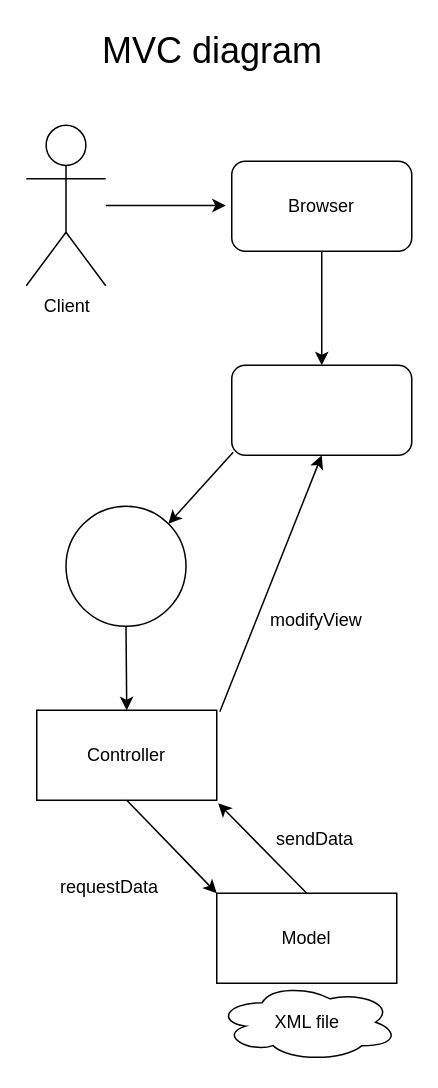
The diagram is 438 pixels wide and 1088 high, and some of its shapes have lost their labels. The box of each missing label's shape, as (x1, y1, x2, y2) in pixels:
Request: (64, 505, 186, 626)
View: (230, 364, 412, 455)
